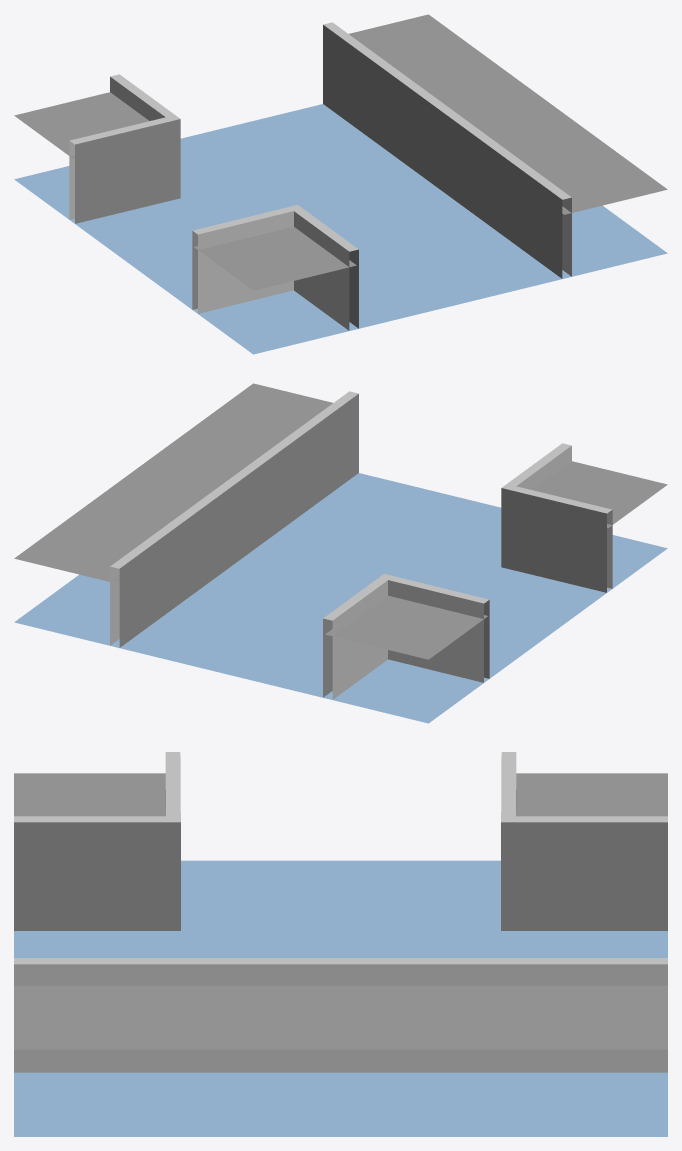
Rendered from road_tile_river_1x1_004.fbx.
3 renders of one model, top to bottom at view 1: azimuth 30°, elevation 25°; view 2: azimuth 150°, elevation 25°; view 3: azimuth 270°, elevation 25°, orthographic. The views are drawn at different scales.
Visible parts, largest first — view 1: road_tile_river_1x1_004; view 2: road_tile_river_1x1_004; view 3: road_tile_river_1x1_004.
Part boxes in pixels (x1=…): road_tile_river_1x1_004: x1=14, y1=14, x2=667, y2=354; road_tile_river_1x1_004: x1=14, y1=383, x2=667, y2=723; road_tile_river_1x1_004: x1=14, y1=752, x2=667, y2=1136.
Size of the model in its own units: 800 by 146 by 800.
